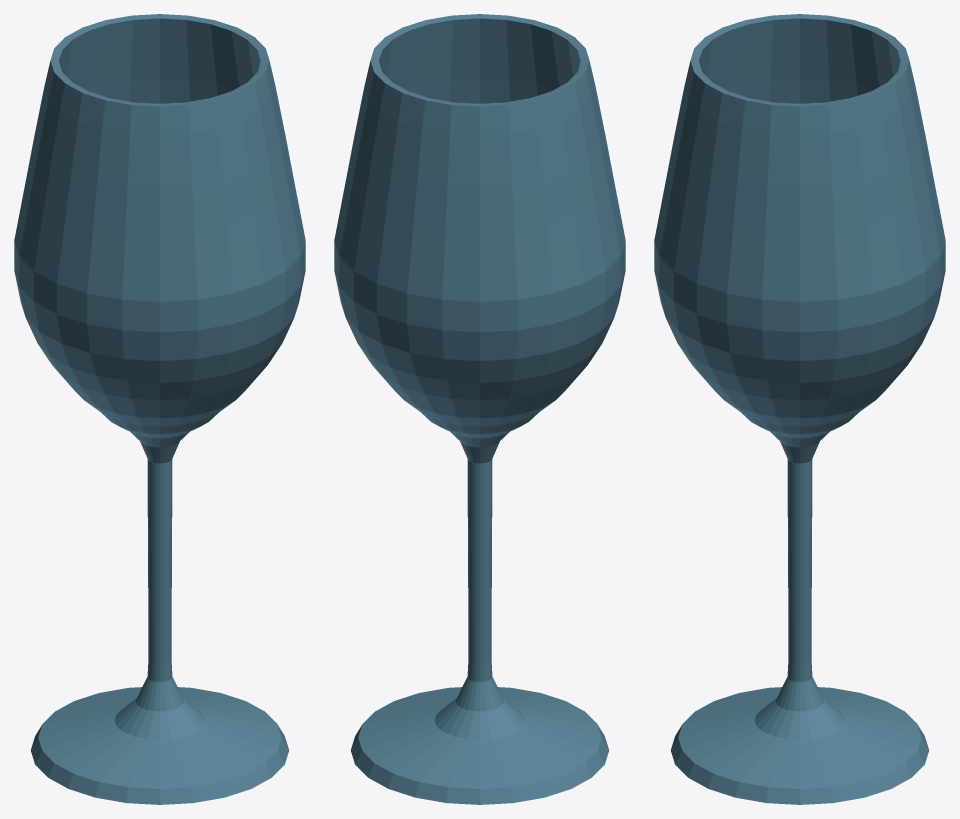
Rendered from glass.obj.
The picture shows the model from 3 angles, left to right: view 1: azimuth 30°, elevation 25°; view 2: azimuth 150°, elevation 25°; view 3: azimuth 270°, elevation 25°; orthographic projection.
Size of the model in its own units: 163 by 426 by 163.
